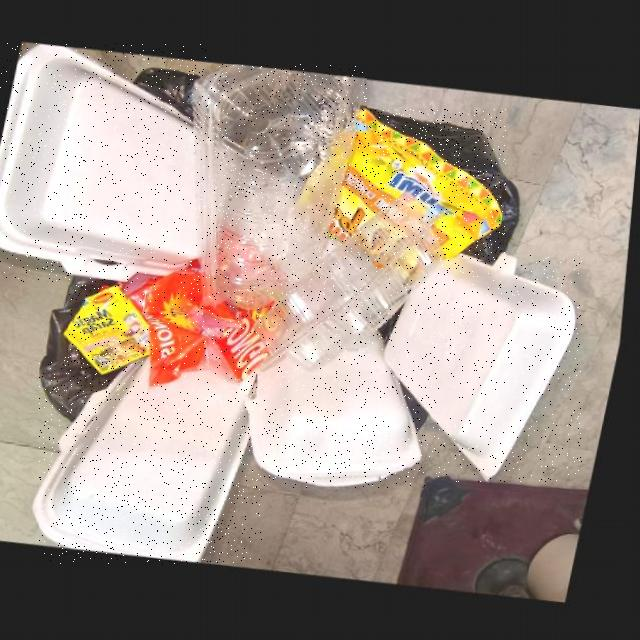plastic: (194, 65, 367, 311), (260, 194, 454, 374)
styrofoam: (0, 43, 206, 282), (39, 357, 262, 564), (390, 254, 582, 482), (252, 333, 430, 488)
wrapper: (334, 110, 506, 261), (128, 260, 279, 388), (68, 286, 156, 375)
